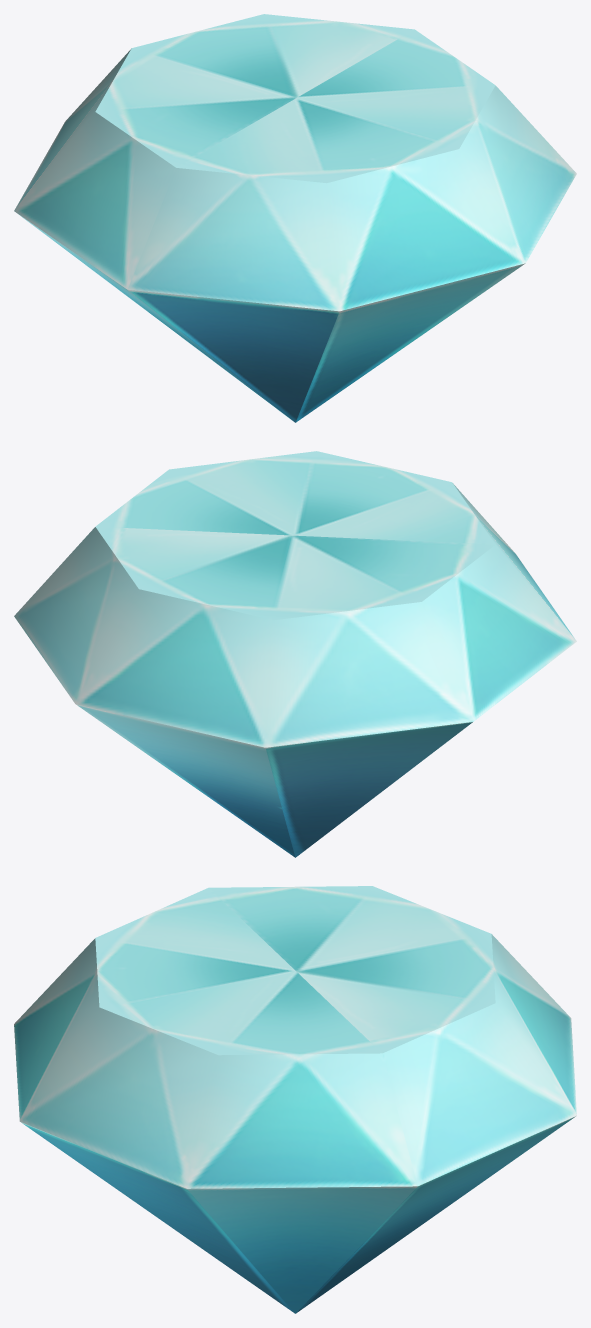
The model's file is 61_diamond.FBX.
3 views of the same model, one above another, from view 1: azimuth 30°, elevation 25°; view 2: azimuth 150°, elevation 25°; view 3: azimuth 270°, elevation 25° (orthographic). The views are drawn at different scales.
Parts seen in each view (by area): view 1: Cylinder025; view 2: Cylinder025; view 3: Cylinder025.
Part boxes in pixels (box(x1,y1,x2,y2)): Cylinder025: box(14, 14, 576, 422); Cylinder025: box(14, 451, 576, 857); Cylinder025: box(14, 886, 576, 1313).
Bounding box in the file's own units: 50 × 33.64 × 50.
